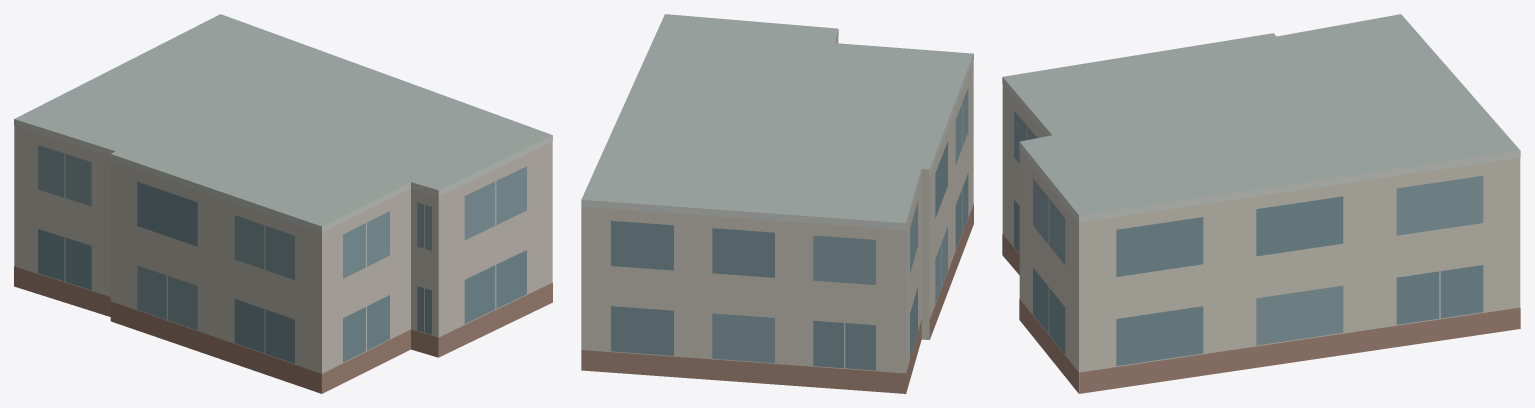
Rendered from survey-upis-32834774.glb.
The picture shows the model from 3 angles, left to right: view 1: azimuth 30°, elevation 25°; view 2: azimuth 150°, elevation 25°; view 3: azimuth 270°, elevation 25°; orthographic projection. The views are drawn at different scales.
Visible parts, largest first — view 1: survey-upis-32834774.tmp; view 2: survey-upis-32834774.tmp; view 3: survey-upis-32834774.tmp.
Part boxes in pixels (bbox=[...]): survey-upis-32834774.tmp: bbox=[14, 14, 552, 393]; survey-upis-32834774.tmp: bbox=[581, 14, 973, 393]; survey-upis-32834774.tmp: bbox=[1002, 14, 1520, 393].
Bounding box in the file's own units: 14.79 × 6.1 × 16.07.
